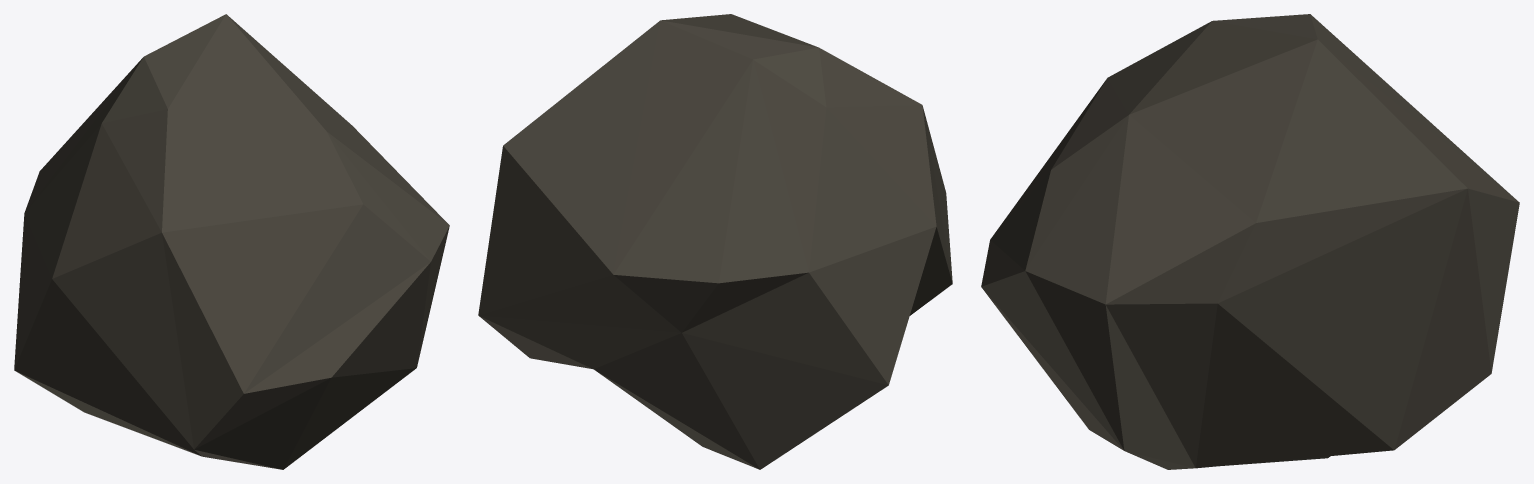
The model's file is MediumBoulder1.FBX.
The picture shows the model from 3 angles, left to right: view 1: azimuth 30°, elevation 25°; view 2: azimuth 150°, elevation 25°; view 3: azimuth 270°, elevation 25°; orthographic projection. The views are drawn at different scales.
Parts seen in each view (by area): view 1: MediumBoulder001; view 2: MediumBoulder001; view 3: MediumBoulder001.
Part boxes in pixels (<box>): MediumBoulder001: <box>14,14,449,469</box>; MediumBoulder001: <box>478,14,952,469</box>; MediumBoulder001: <box>981,14,1519,469</box>.
Bounding box in the file's own units: 36.34 × 39.41 × 43.38.
